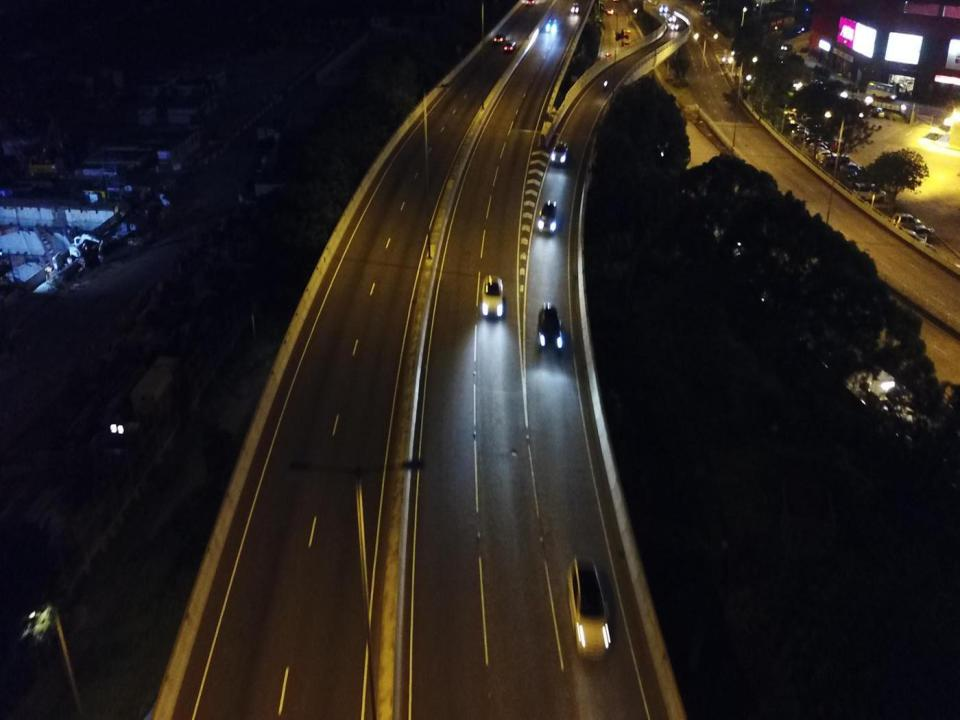bus: (566, 557, 612, 660), (865, 81, 898, 99)
car: (538, 302, 563, 350), (482, 275, 504, 318), (539, 200, 556, 235), (892, 212, 922, 229), (550, 141, 568, 165), (846, 171, 877, 184), (907, 224, 936, 237), (841, 162, 865, 174), (815, 151, 839, 161), (808, 142, 829, 152), (503, 40, 516, 53), (805, 138, 826, 146), (871, 107, 885, 118), (546, 19, 558, 30), (659, 4, 669, 12), (494, 36, 505, 43), (671, 23, 681, 30), (604, 52, 612, 59), (668, 15, 676, 21), (607, 9, 614, 15)
truck: (621, 28, 632, 48)
van: (853, 184, 887, 202), (825, 155, 850, 169), (572, 3, 580, 14)
